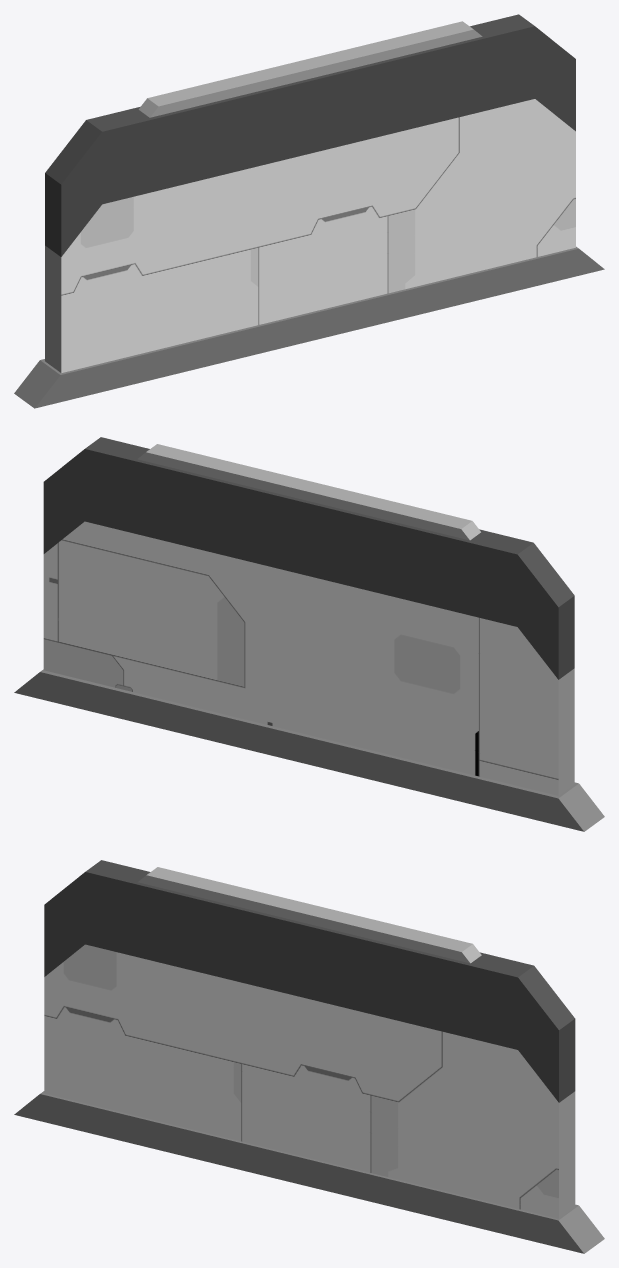
The model's file is SM_Railing_1.fbx.
3 renders of one model, top to bottom at view 1: azimuth 30°, elevation 25°; view 2: azimuth 150°, elevation 25°; view 3: azimuth 330°, elevation 25°, orthographic.
Visible parts, largest first — view 1: SM_Railing_1; view 2: SM_Railing_1; view 3: SM_Railing_1.
Part boxes in pixels (left/top/right/bottom): SM_Railing_1: left=14, top=14, right=604, bottom=408; SM_Railing_1: left=14, top=437, right=604, bottom=831; SM_Railing_1: left=14, top=860, right=604, bottom=1253.
Size of the model in its own units: 221 by 99.33 by 13.85.
